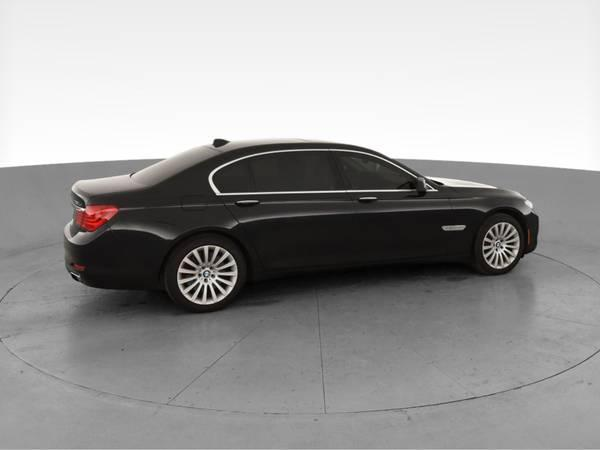Front_Bumper: (527, 209, 543, 252)
Front_Fender: (449, 195, 536, 262)
Front_Right_Door: (350, 192, 455, 270)
Front_Right_Window: (324, 151, 441, 193)
Hood: (423, 176, 522, 198)
Rear_Bumper: (65, 225, 169, 289)
Rear_Fender: (88, 164, 228, 245)
Rear_Right_Door: (220, 192, 363, 281)
Rear_Right_Window: (212, 148, 345, 193)
Rear_Windshield: (128, 148, 222, 190)
Right_Taillight: (72, 203, 119, 233)
Roof: (203, 139, 419, 174)
Tailgate: (66, 174, 152, 237)
Wheel: (165, 232, 246, 308), (473, 210, 529, 271)
